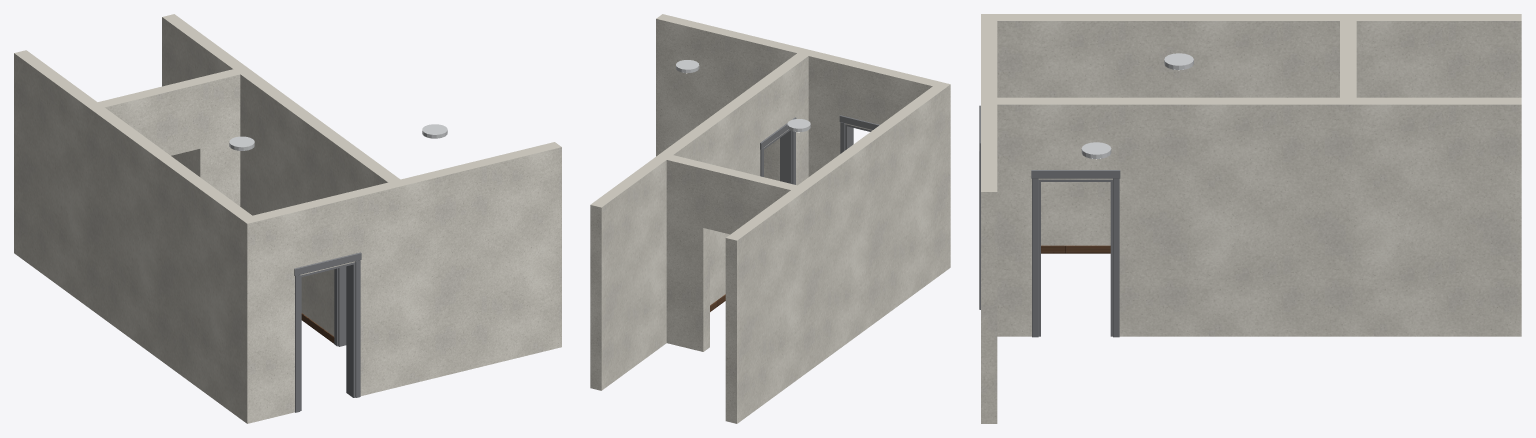
Rendered from core_storey.glb.
3 renders of one model, left to right at view 1: azimuth 30°, elevation 25°; view 2: azimuth 150°, elevation 25°; view 3: azimuth 270°, elevation 25°, orthographic. The views are drawn at different scales.
Parts seen in each view (by area): view 1: core_storey_plaster, core_storey_frame, core_storey_metal; view 2: core_storey_plaster, core_storey_frame, core_storey_metal; view 3: core_storey_plaster, core_storey_frame, core_storey_metal, core_storey_dkwood.
Boxes of the visible parts, left/top/right/bottom form: core_storey_plaster: left=14, top=14, right=561, bottom=423; core_storey_frame: left=294, top=252, right=361, bottom=412; core_storey_metal: left=229, top=124, right=447, bottom=150; core_storey_plaster: left=590, top=14, right=950, bottom=423; core_storey_frame: left=760, top=115, right=879, bottom=184; core_storey_metal: left=676, top=60, right=810, bottom=131; core_storey_plaster: left=981, top=14, right=1521, bottom=423; core_storey_frame: left=979, top=105, right=1120, bottom=337; core_storey_metal: left=1081, top=53, right=1193, bottom=158; core_storey_dkwood: left=1041, top=245, right=1110, bottom=253.
Bounding box in the file's own units: 5.1 × 3.1 × 6.57.
Materials: 7 (2 with a texture image).
